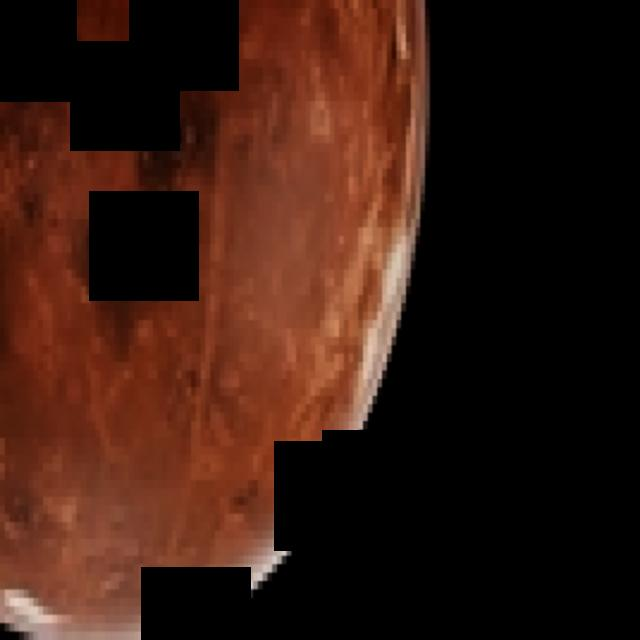Venus: (1, 0, 434, 640)
